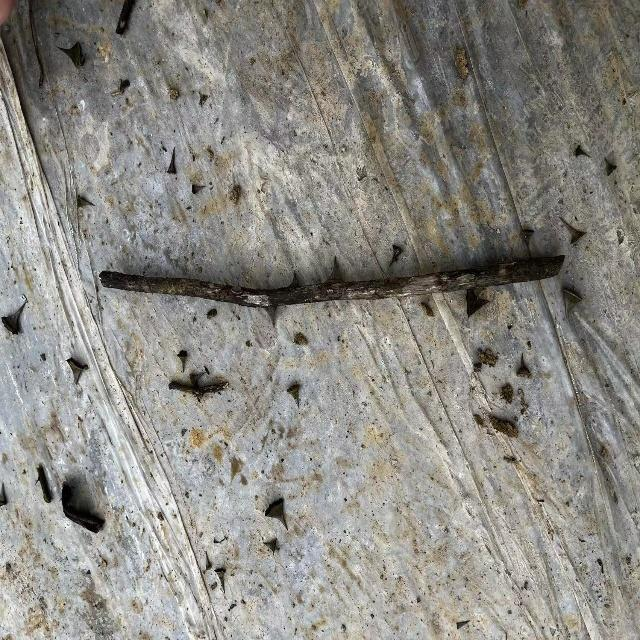branch: (100, 254, 566, 312)
